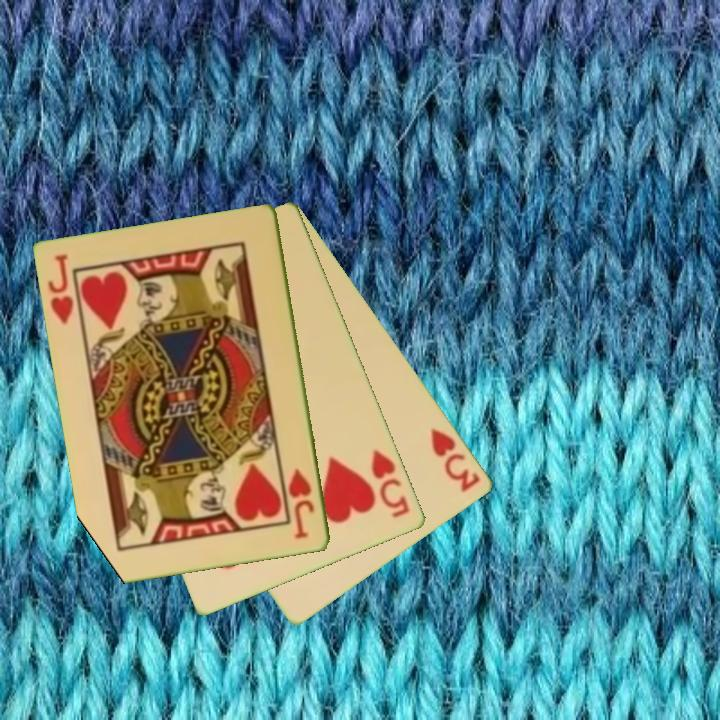3h: (427, 425, 484, 495)
5h: (368, 446, 413, 521)
Jh: (45, 251, 84, 330), (285, 465, 318, 542)
